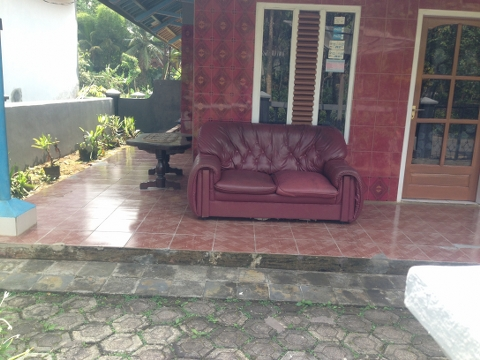kursi: (187, 121, 364, 224)
meja: (127, 132, 192, 190)
